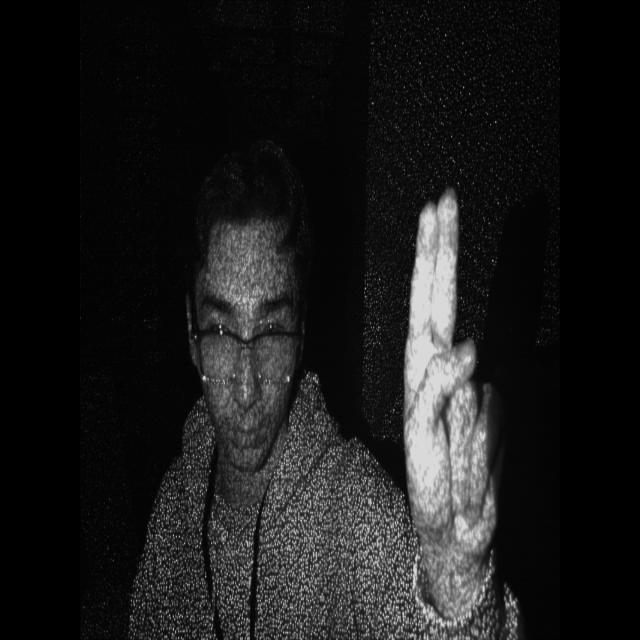U: (394, 174, 508, 570)
